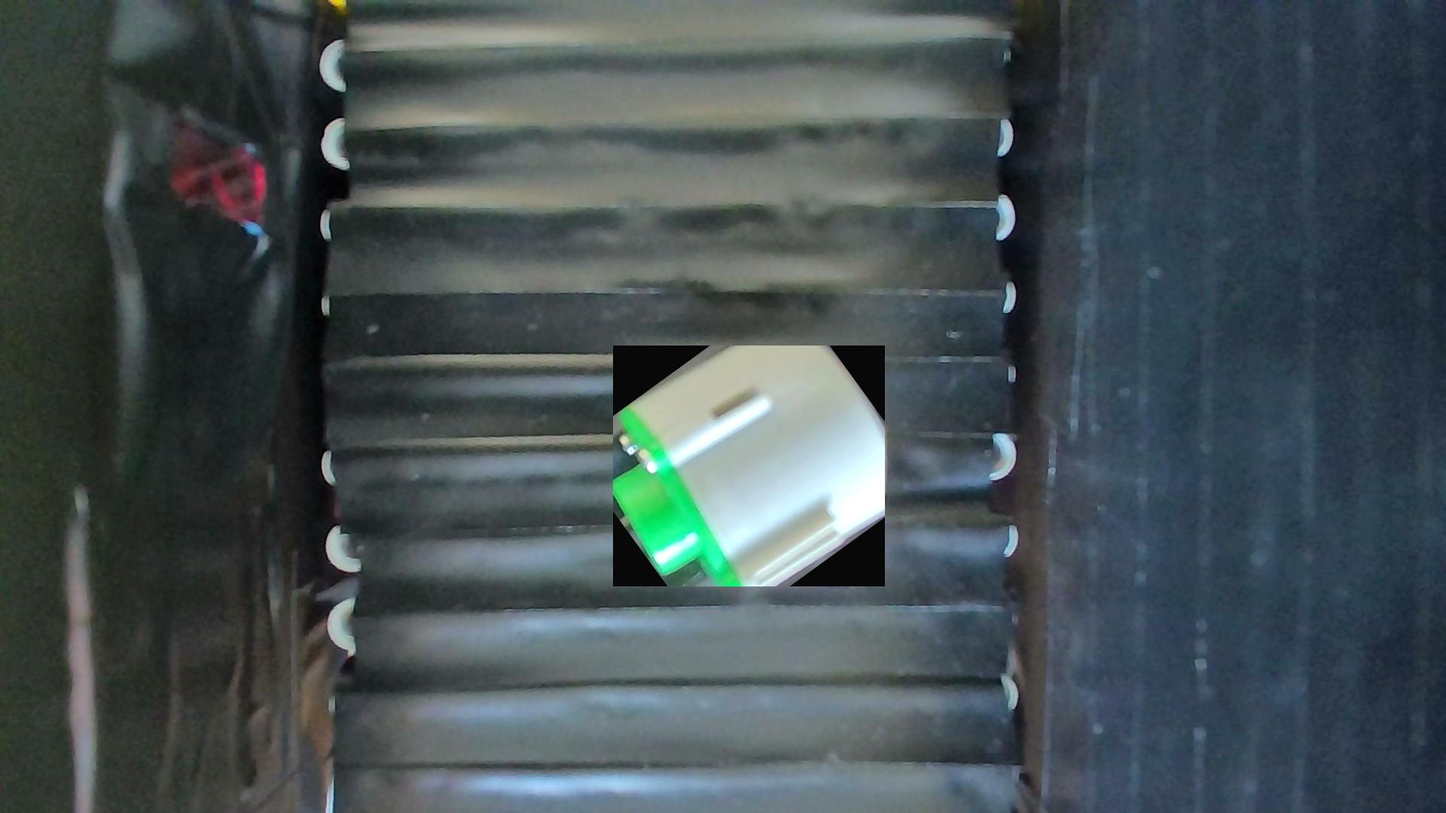cartridge: (614, 346, 886, 588)
